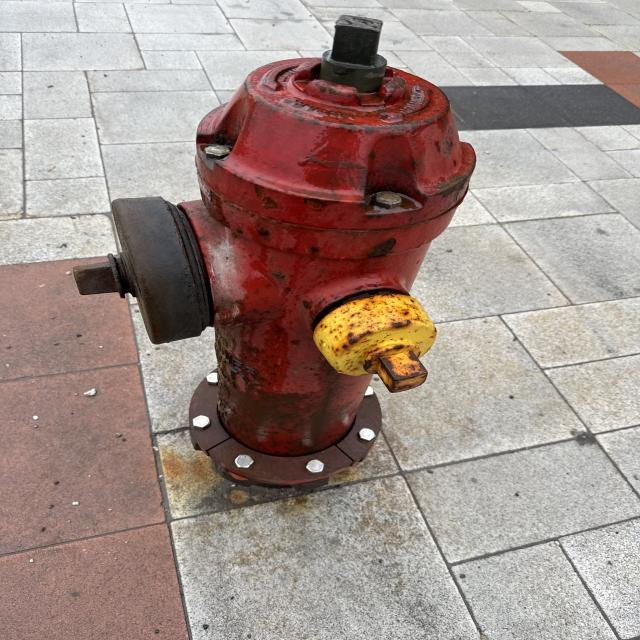Fire hydrant: (71, 56, 478, 466)
